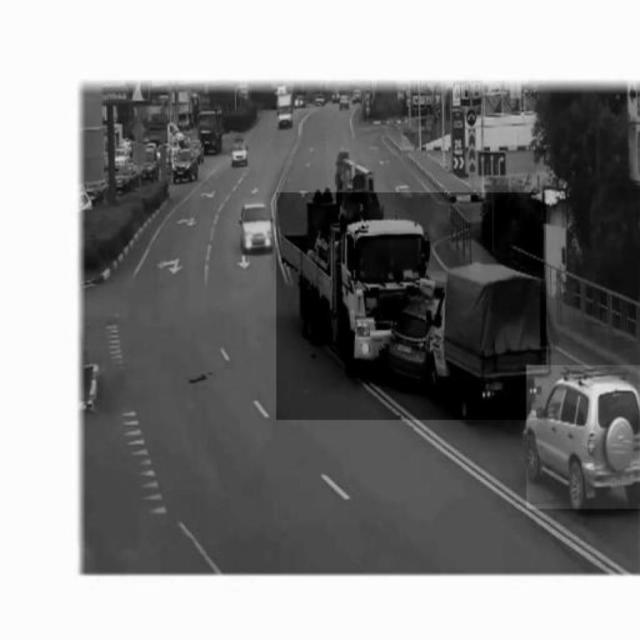accident: (276, 193, 546, 420)
vehicle: (527, 365, 640, 509), (239, 200, 274, 254)
